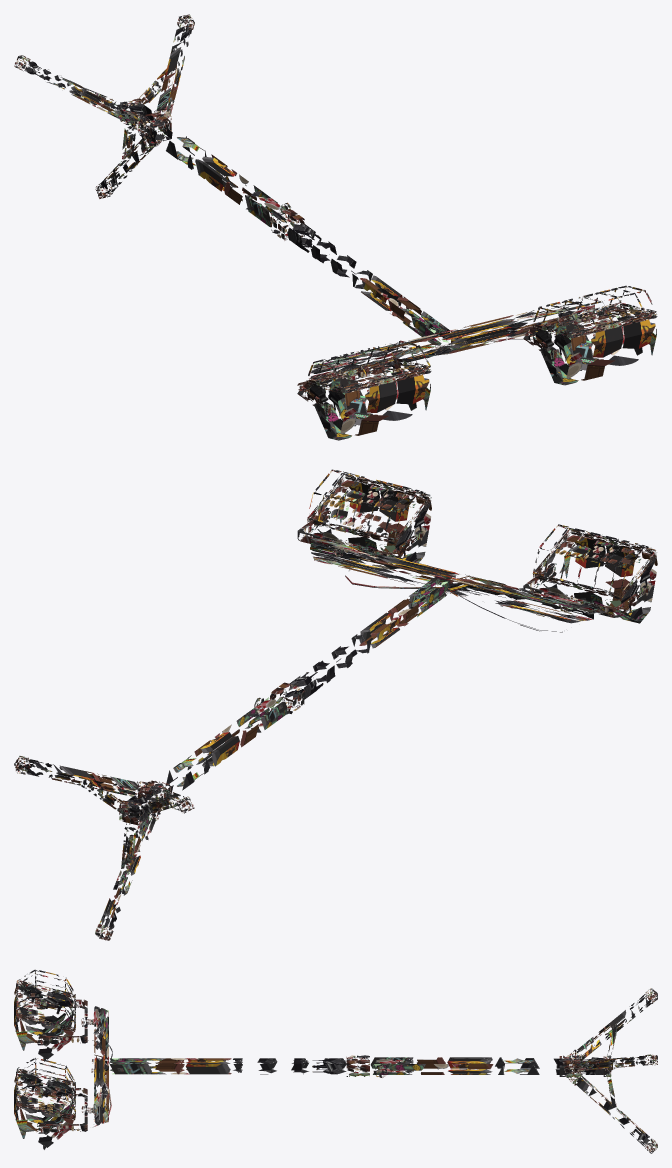
The picture shows the model from 3 angles, top to bottom: view 1: azimuth 30°, elevation 25°; view 2: azimuth 150°, elevation 25°; view 3: azimuth 270°, elevation 25°; orthographic projection. The views are drawn at different scales.
Size of the model in its own units: 0.9637 by 0.4662 by 2.09.
